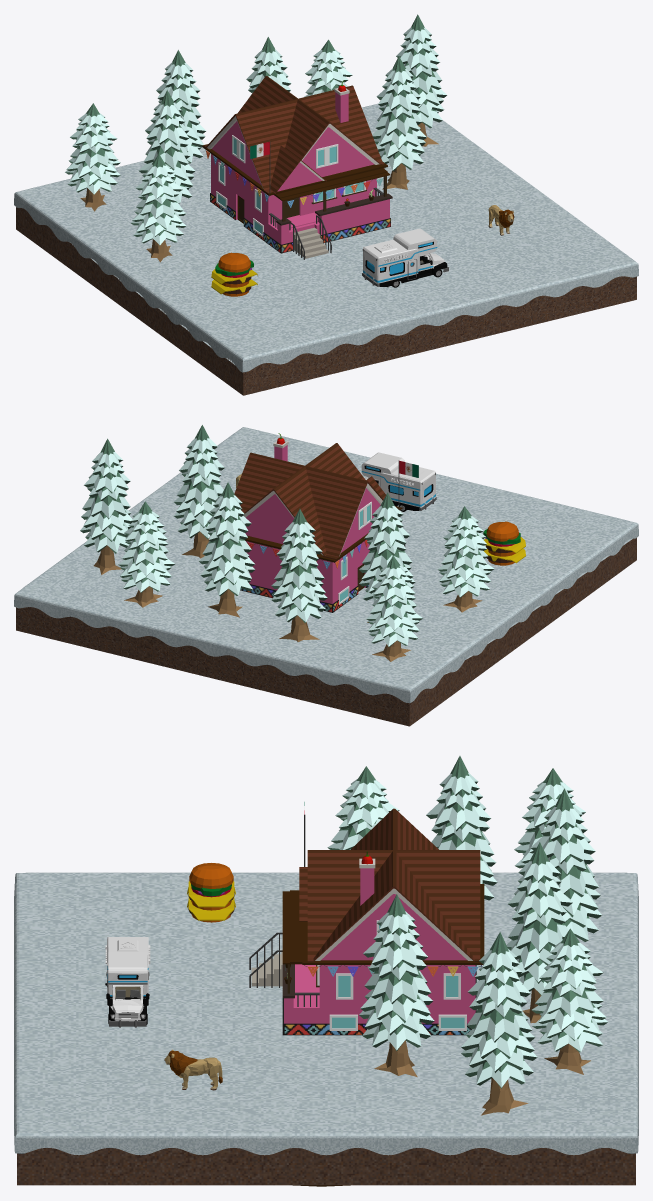
3 views of the same model, one above another, from view 1: azimuth 30°, elevation 25°; view 2: azimuth 150°, elevation 25°; view 3: azimuth 270°, elevation 25° (orthographic). The views are drawn at different scales.
Parts seen in each view (by area): view 1: Cube.003, Cube.1005, VEHICLES_CAMPER, OBJRANDOM_HAMBURGER; view 2: Cube.003, Cube.1005, VEHICLES_CAMPER, OBJRANDOM_HAMBURGER; view 3: Cube.003, Cube.1005, VEHICLES_CAMPER, OBJRANDOM_HAMBURGER, ANIMAL_LEON.
Part boxes in pixels (bbox=[...]): Cube.003: bbox=[14, 14, 638, 395]; Cube.1005: bbox=[202, 76, 392, 259]; VEHICLES_CAMPER: bbox=[362, 228, 448, 287]; OBJRANDOM_HAMBURGER: bbox=[211, 252, 257, 296]; Cube.003: bbox=[14, 425, 638, 726]; Cube.1005: bbox=[234, 433, 418, 612]; VEHICLES_CAMPER: bbox=[361, 452, 436, 511]; OBJRANDOM_HAMBURGER: bbox=[483, 521, 525, 565]; Cube.003: bbox=[14, 756, 638, 1185]; Cube.1005: bbox=[249, 802, 484, 1035]; VEHICLES_CAMPER: bbox=[105, 937, 150, 1027]; OBJRANDOM_HAMBURGER: bbox=[187, 863, 235, 922]; ANIMAL_LEON: bbox=[164, 1049, 222, 1090].
Bounding box in the file's own units: 4040 × 1758 × 4040.
73 materials, 5 textured.
